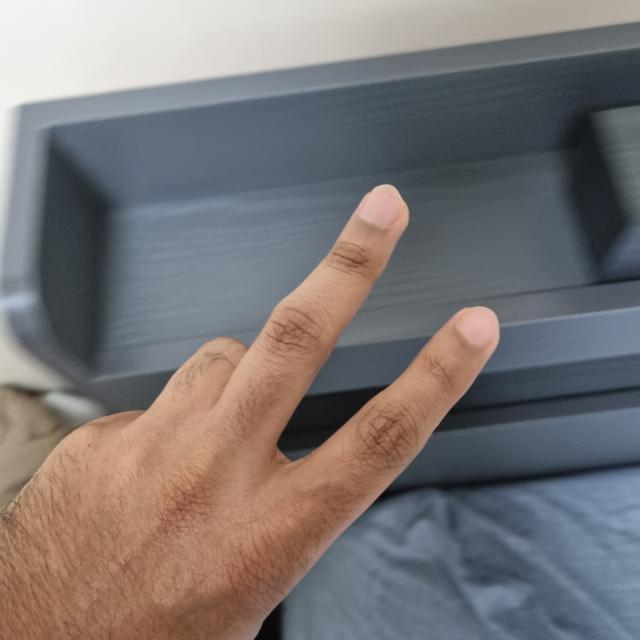Scissors: (0, 188, 498, 639)
